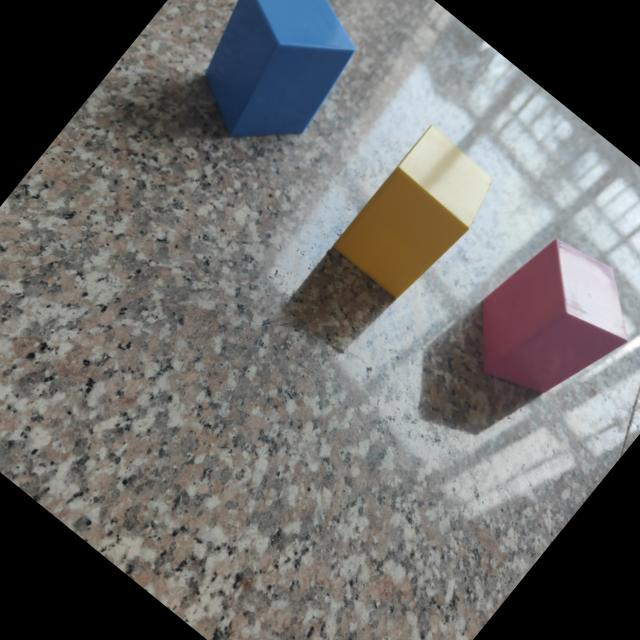blue: (204, 0, 356, 139)
pink: (478, 240, 628, 397)
yellow: (330, 127, 491, 300)
